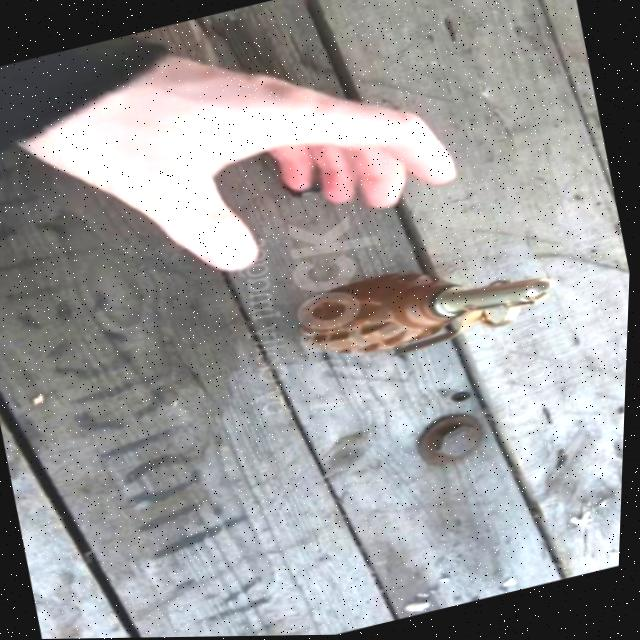grenade: (290, 231, 569, 387)
